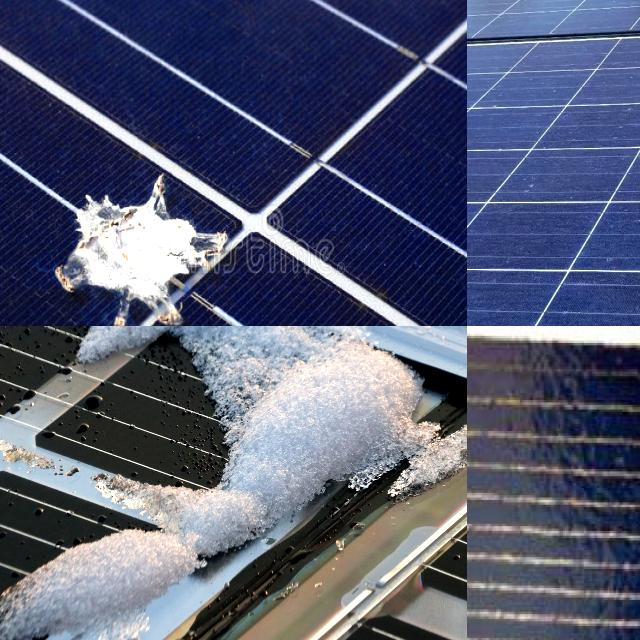bird: (49, 156, 237, 326)
dust: (467, 64, 563, 194), (604, 54, 640, 192), (476, 214, 572, 260), (467, 273, 542, 326), (568, 274, 640, 326), (611, 196, 640, 263)
panel: (0, 459, 242, 640), (223, 326, 460, 490), (0, 326, 209, 434), (50, 326, 424, 385)
